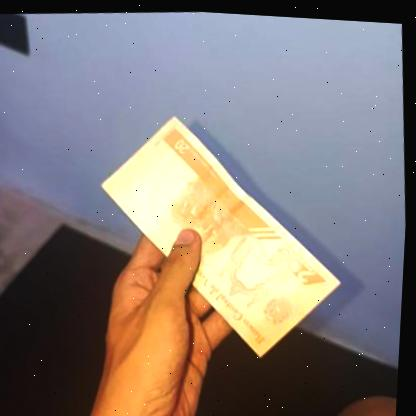vef_back: (91, 98, 355, 369)
